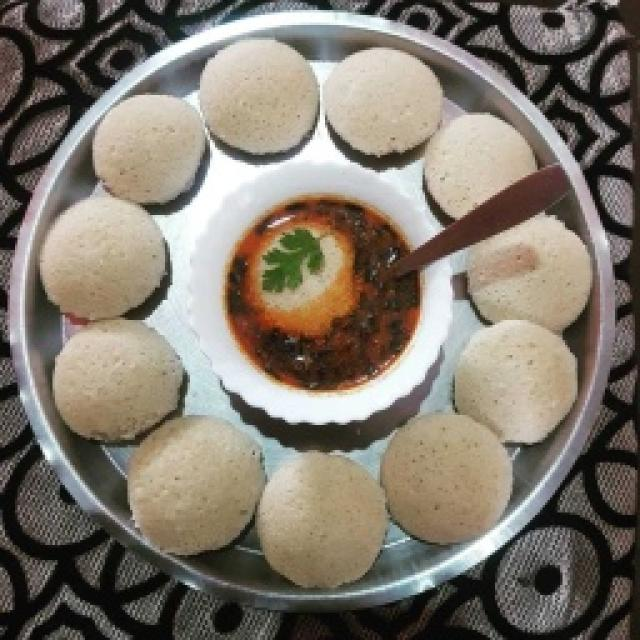idli: (128, 415, 264, 554), (380, 413, 512, 544), (258, 453, 387, 587), (53, 318, 182, 442), (40, 198, 164, 319), (455, 320, 577, 442), (468, 215, 592, 332), (200, 38, 319, 154), (323, 48, 442, 157), (248, 223, 357, 334), (93, 95, 204, 204), (425, 113, 537, 217)
